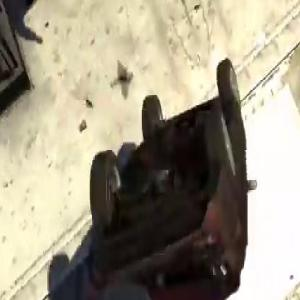fatal: (73, 46, 252, 300)
